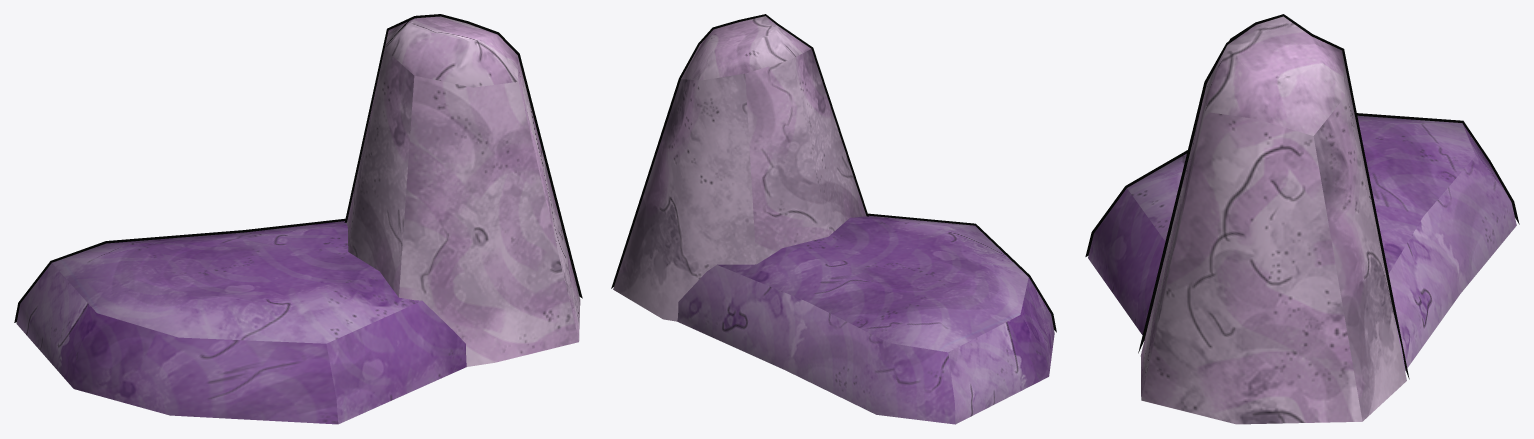
File: s0_Rock_01__1__01.glb
The picture shows the model from 3 angles, left to right: view 1: azimuth 30°, elevation 25°; view 2: azimuth 150°, elevation 25°; view 3: azimuth 270°, elevation 25°; orthographic projection. The views are drawn at different scales.
Visible parts, largest first — view 1: node_Rock_01 (1), node_Rock_01_Outline; view 2: node_Rock_01 (1), node_Rock_01_Outline; view 3: node_Rock_01 (1), node_Rock_01_Outline.
Boxes of the visible parts, <box> form: node_Rock_01 (1): <box>16,16,580,424</box>; node_Rock_01_Outline: <box>14,14,582,322</box>; node_Rock_01 (1): <box>613,16,1054,424</box>; node_Rock_01_Outline: <box>611,14,1056,332</box>; node_Rock_01 (1): <box>1088,16,1516,424</box>; node_Rock_01_Outline: <box>1085,14,1519,379</box>.
Size of what is drawn, in the model's own units: 4.07 by 2.43 by 2.92.
3 materials, 2 textured.
